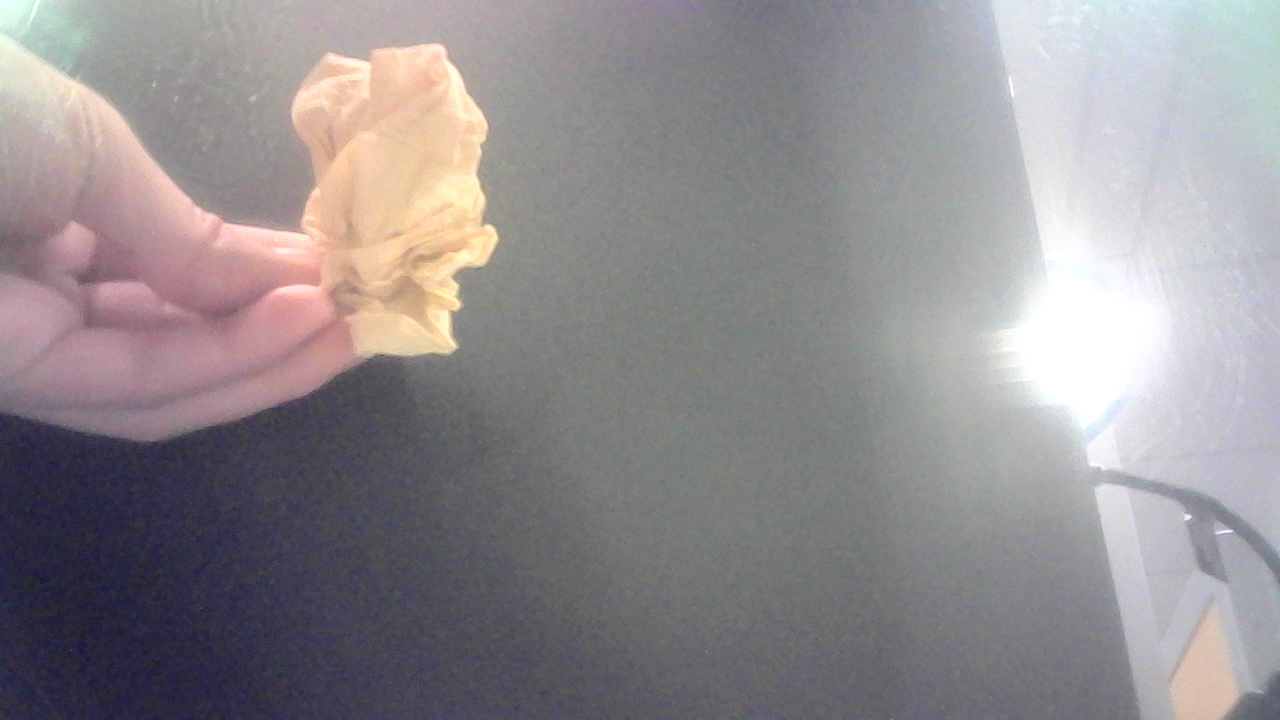Paper_Recycling: (278, 40, 544, 380)
